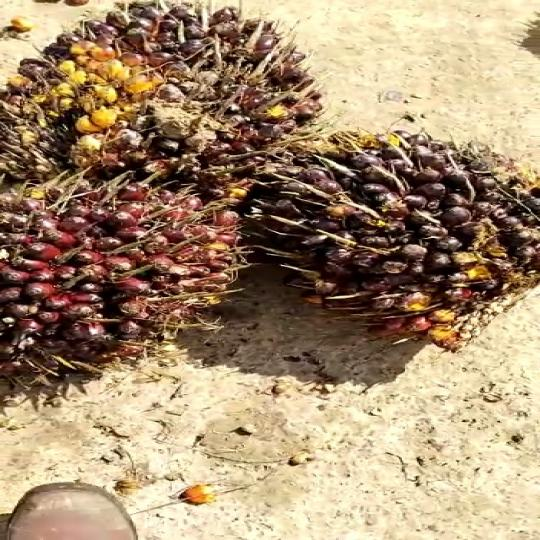kurang masak: (0, 0, 316, 205), (221, 135, 540, 335), (0, 176, 259, 418)
